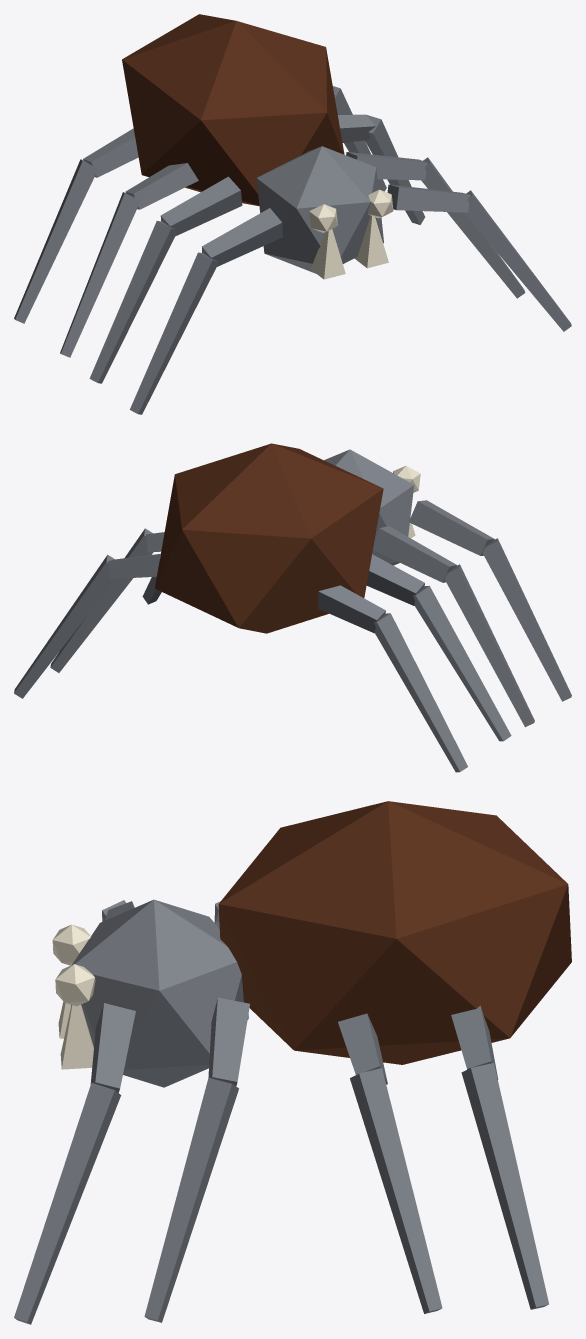
File: npcpose_spider_walk_06.glb
3 views of the same model, one above another, from view 1: azimuth 30°, elevation 25°; view 2: azimuth 150°, elevation 25°; view 3: azimuth 270°, elevation 25° (orthographic). The views are drawn at different scales.
Parts seen in each view (by area): view 1: npcpose; view 2: npcpose; view 3: npcpose.
Boxes of the visible parts, <box> form: npcpose: <box>14,14,571,414</box>; npcpose: <box>14,443,571,772</box>; npcpose: <box>14,801,571,1324</box>.
Bounding box in the file's own units: 1.33 × 0.8434 × 1.07.
